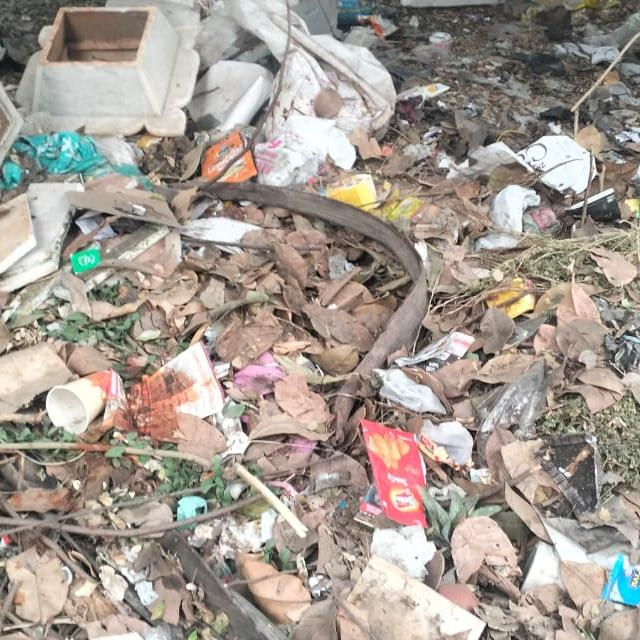plastic: (344, 396, 448, 542), (484, 110, 618, 206), (129, 340, 242, 448), (36, 360, 122, 440), (596, 545, 640, 622)
